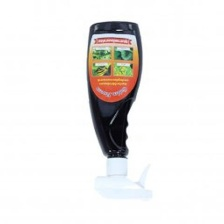insecticide: (82, 18, 156, 204)
